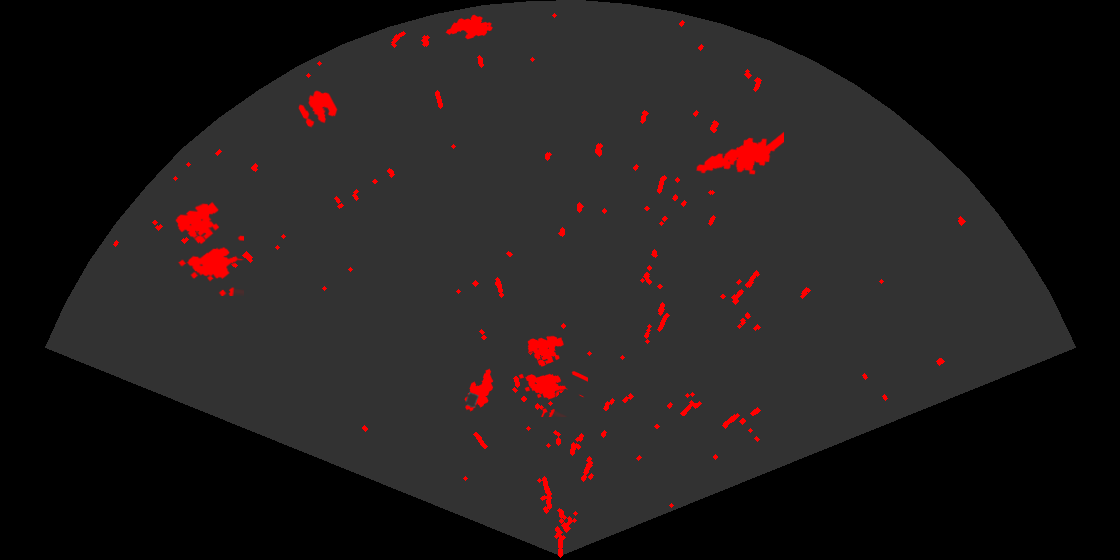AUV: (463, 367, 495, 413), (444, 13, 494, 41)
ball: (297, 89, 339, 129)
cage: (174, 200, 244, 296), (517, 334, 588, 417)
frogman: (695, 130, 784, 176)
